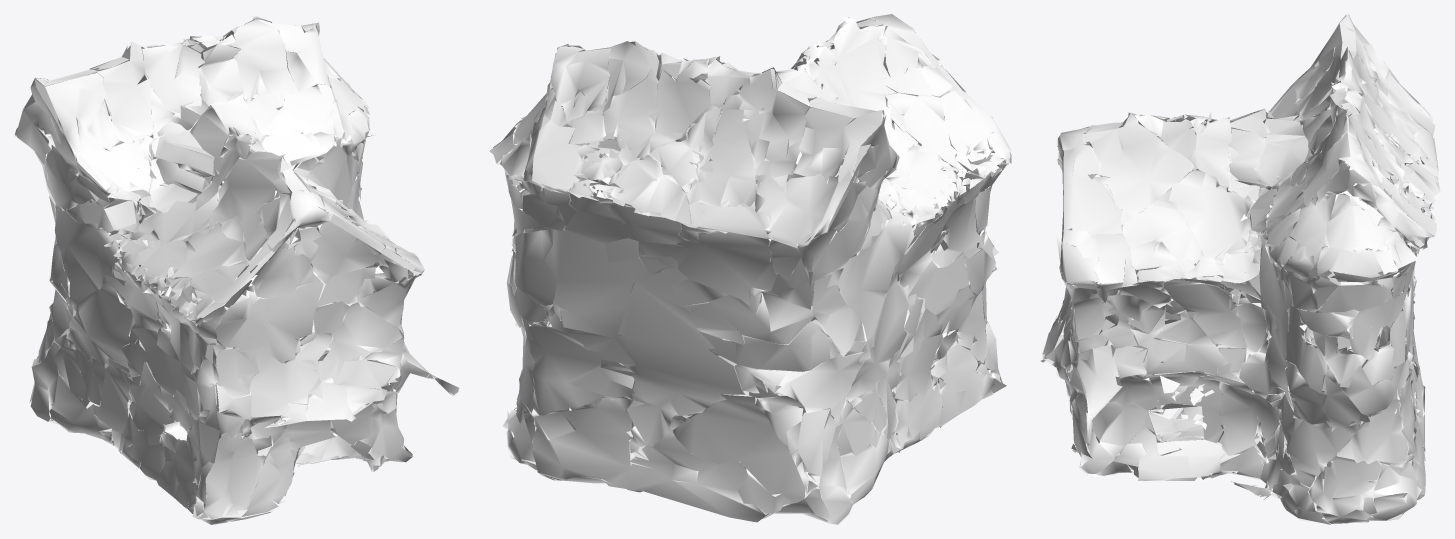
File: house_two_b_lo.glb
3 views of the same model, side by side, from view 1: azimuth 30°, elevation 25°; view 2: azimuth 150°, elevation 25°; view 3: azimuth 270°, elevation 25° (orthographic). The views are drawn at different scales.
Parts seen in each view (by area): view 1: output_unwrapped; view 2: output_unwrapped; view 3: output_unwrapped.
Part boxes in pixels (x1=…): output_unwrapped: x1=15, y1=14, x2=459, y2=524; output_unwrapped: x1=489, y1=14, x2=1011, y2=524; output_unwrapped: x1=1041, y1=14, x2=1440, y2=524.
Size of the model in its own units: 9.15 by 9.93 by 9.64.
Materials: 1 (1 with a texture image).
